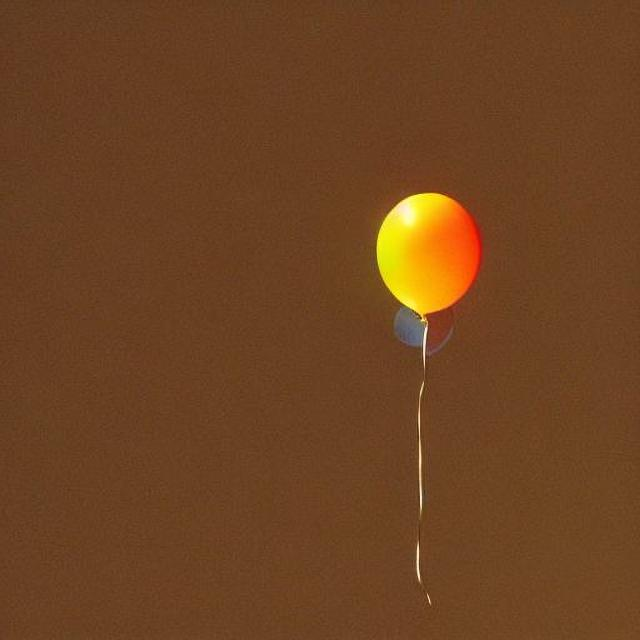balloon: (370, 185, 482, 340)
